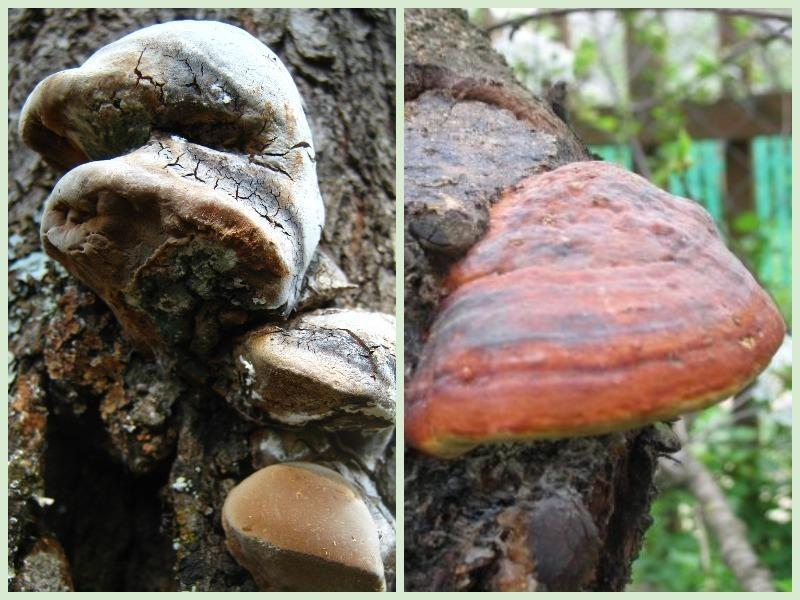Plum tinder fungus: (18, 0, 389, 568)
